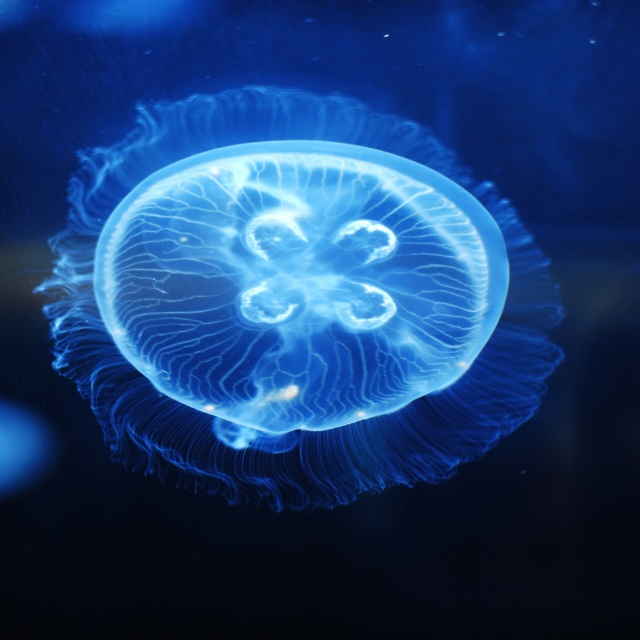Jellyfish: (48, 105, 568, 521)
